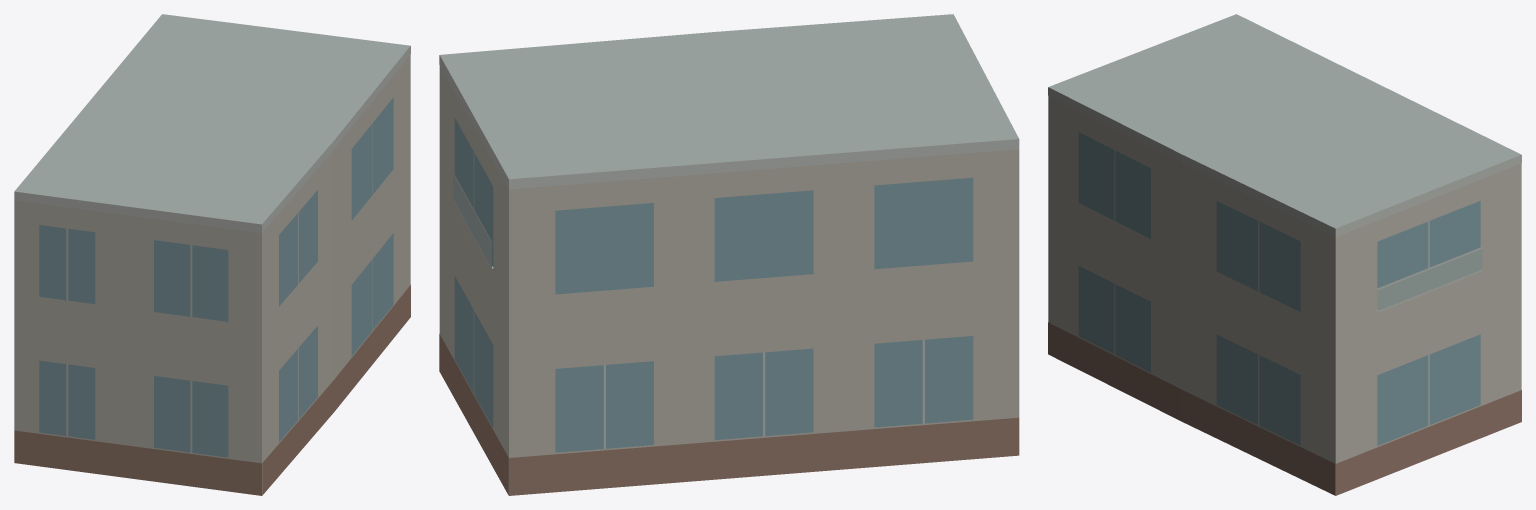
File: survey-upis-32638881.glb
3 views of the same model, side by side, from view 1: azimuth 30°, elevation 25°; view 2: azimuth 150°, elevation 25°; view 3: azimuth 270°, elevation 25° (orthographic). The views are drawn at different scales.
Visible parts, largest first — view 1: survey-upis-32638881.tmp; view 2: survey-upis-32638881.tmp; view 3: survey-upis-32638881.tmp.
Part boxes in pixels (x1,y1,x2,y2): survey-upis-32638881.tmp: (14, 14, 410, 495); survey-upis-32638881.tmp: (439, 14, 1019, 495); survey-upis-32638881.tmp: (1048, 14, 1521, 495).
Bounding box in the file's own units: 13.1 × 7.6 × 12.22.
